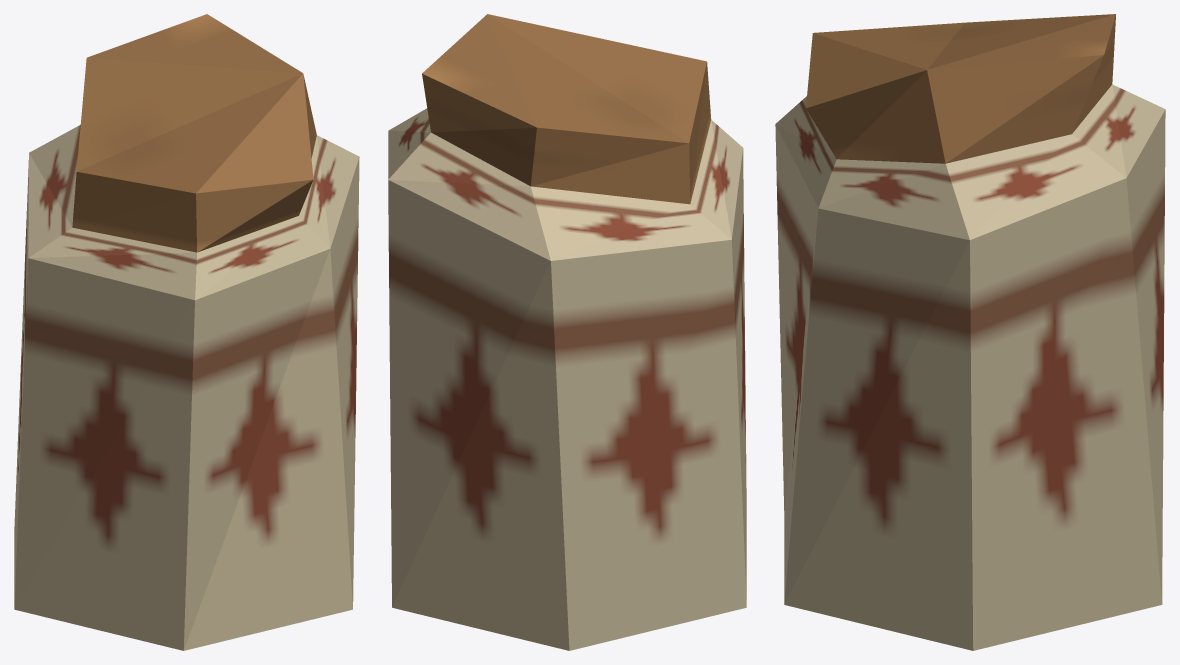
File: SM_CreamJar.fbx
3 renders of one model, left to right at view 1: azimuth 30°, elevation 25°; view 2: azimuth 150°, elevation 25°; view 3: azimuth 270°, elevation 25°, orthographic. The views are drawn at different scales.
Visible parts, largest first — view 1: CreamJar_Visual; view 2: CreamJar_Visual; view 3: CreamJar_Visual.
Boxes of the visible parts, left/top/right/bottom form: CreamJar_Visual: left=14, top=14, right=359, bottom=650; CreamJar_Visual: left=388, top=14, right=746, bottom=650; CreamJar_Visual: left=775, top=14, right=1165, bottom=650.
Bounding box in the file's own units: 0.0852 × 0.1165 × 0.0751.
